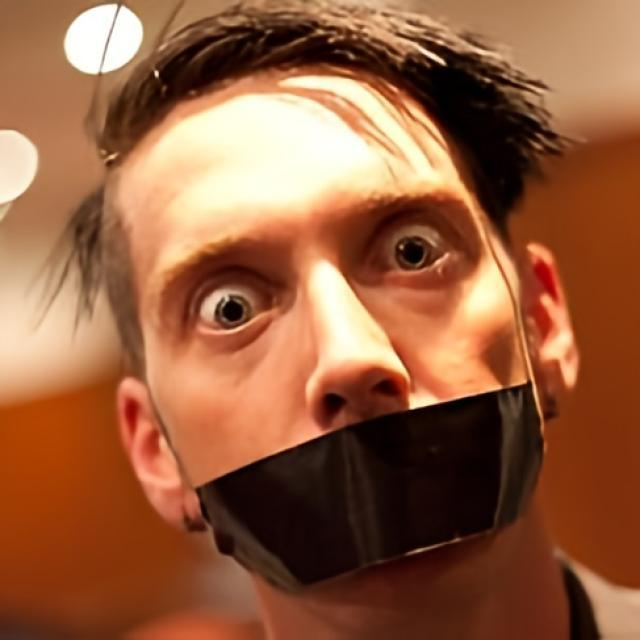Fear: (96, 58, 549, 610)
